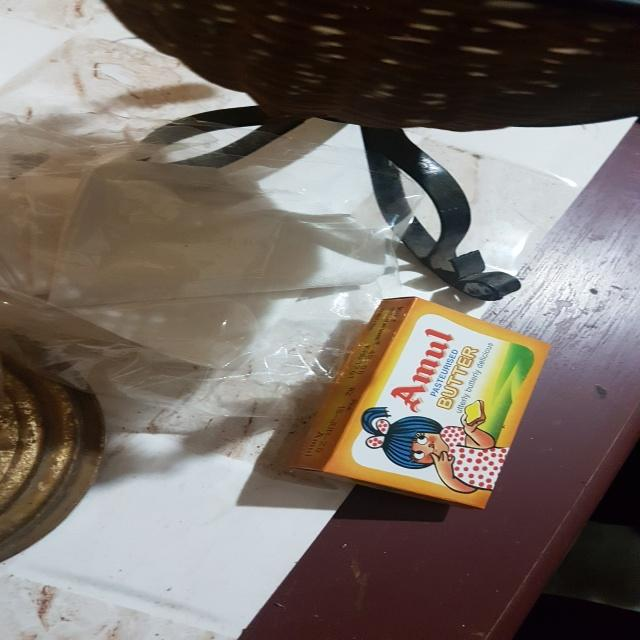butter: (299, 293, 548, 511)
